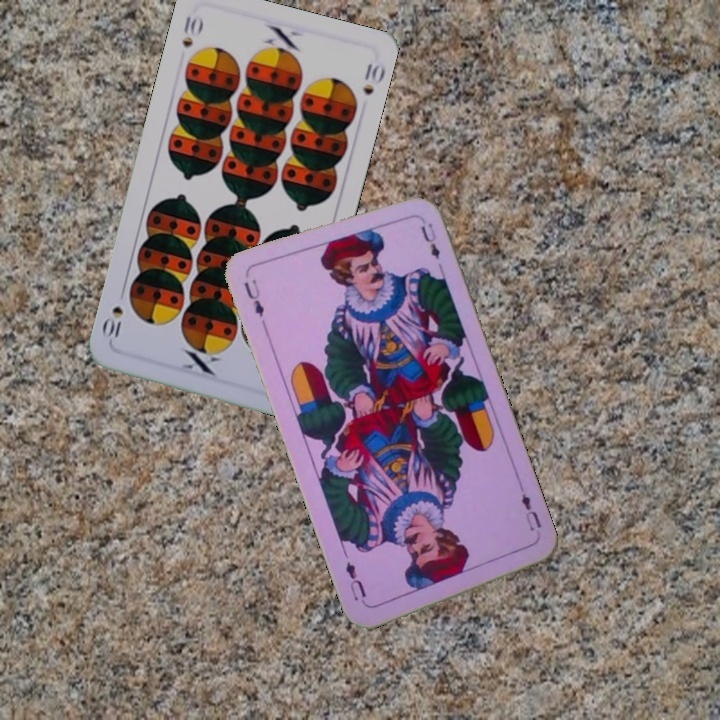EU: (239, 275, 267, 320), (517, 490, 544, 534)
S10: (178, 12, 206, 50)
